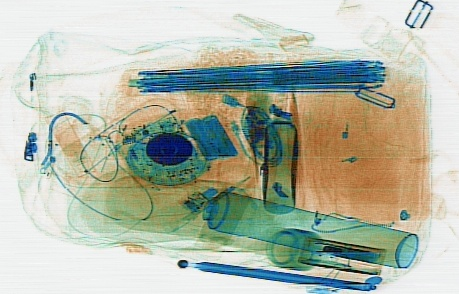powerbank: (183, 115, 237, 160)
pressure: (198, 190, 418, 268)
